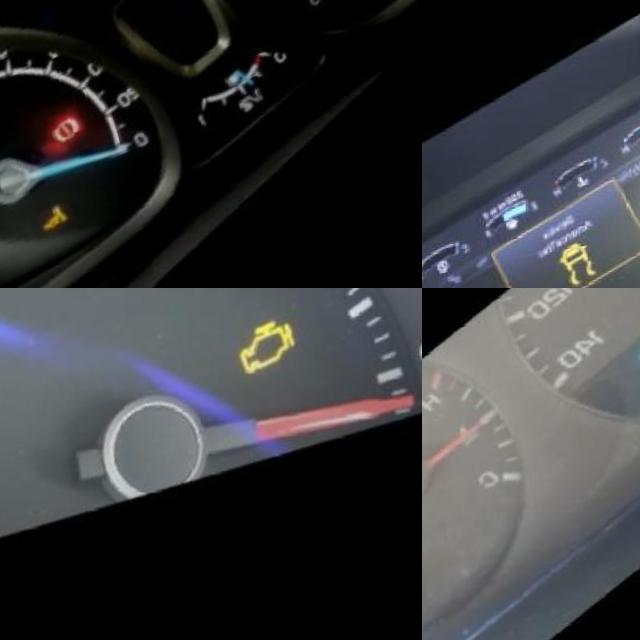High Engine Coolant Temperature: (570, 186, 592, 205)
